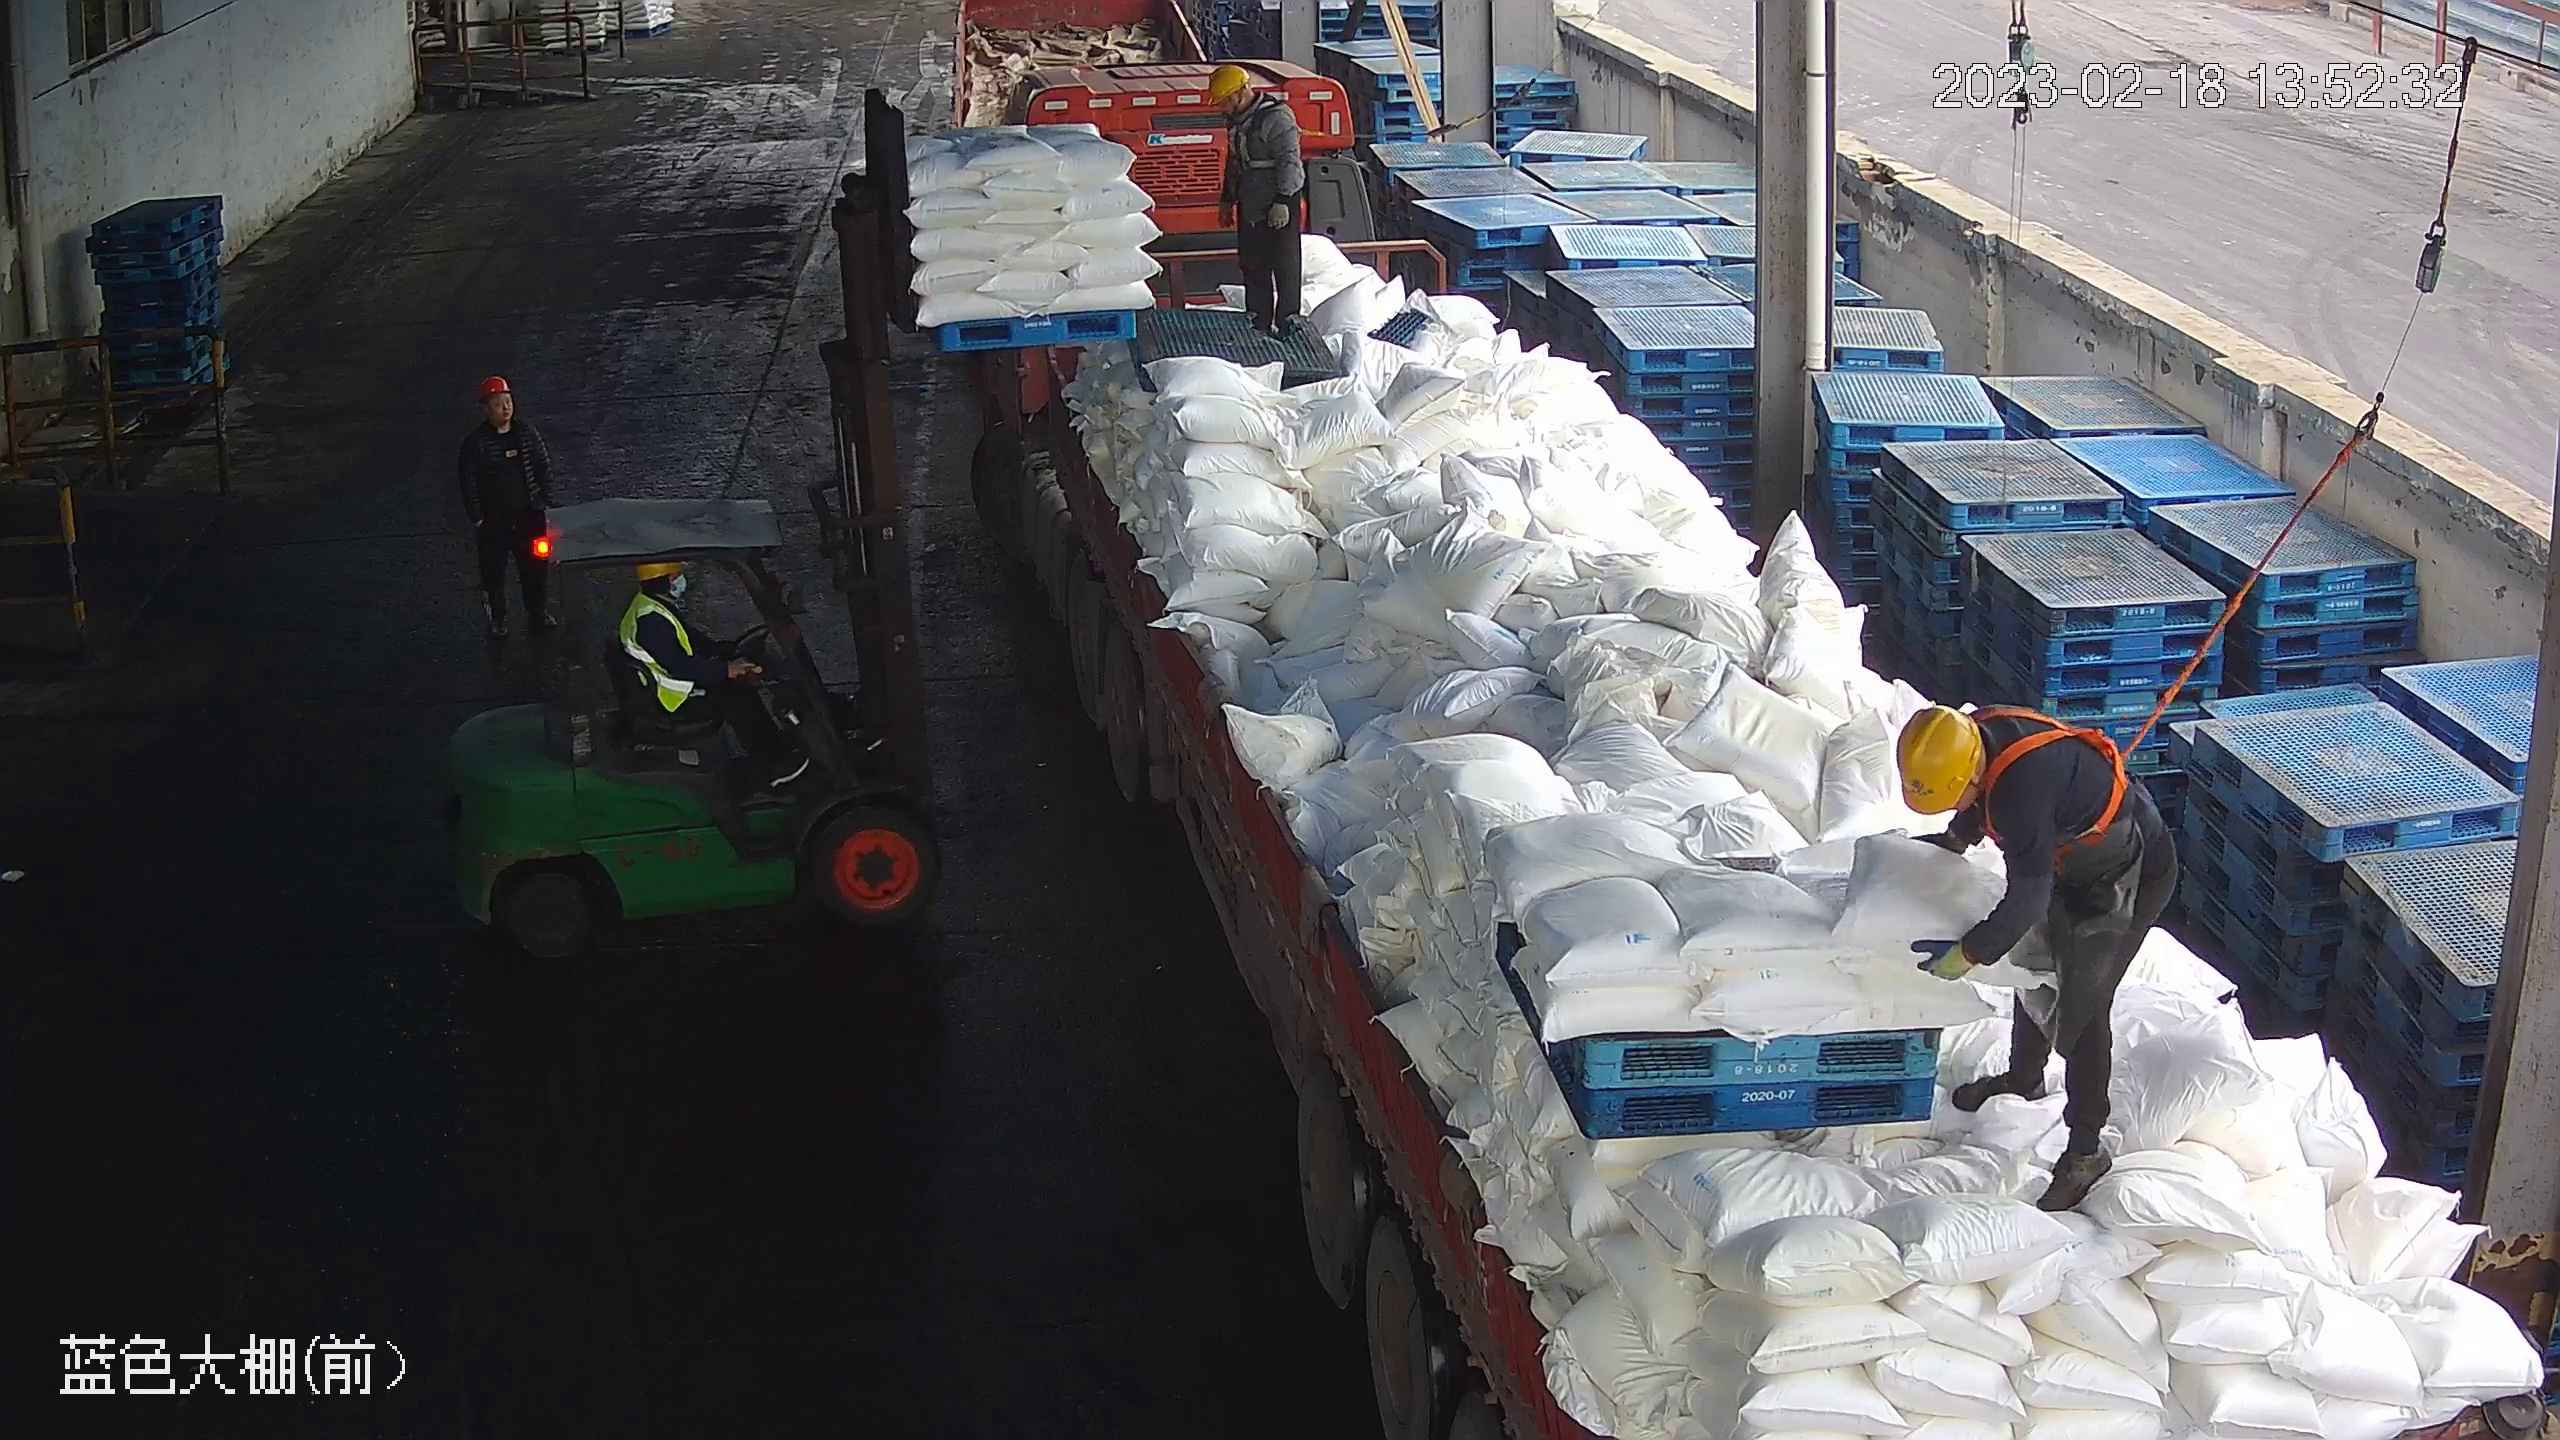belt: (1967, 705, 2190, 850), (1210, 100, 1298, 167)
head: (1901, 703, 2127, 908), (625, 561, 727, 671), (462, 378, 547, 478), (1210, 64, 1293, 162)
helmet: (1896, 700, 1981, 818), (1212, 66, 1252, 101), (476, 376, 513, 406)
people: (1898, 705, 2188, 1222), (613, 561, 832, 793), (1208, 62, 1322, 340), (459, 371, 571, 639)
truck: (962, 54, 2560, 1440)
